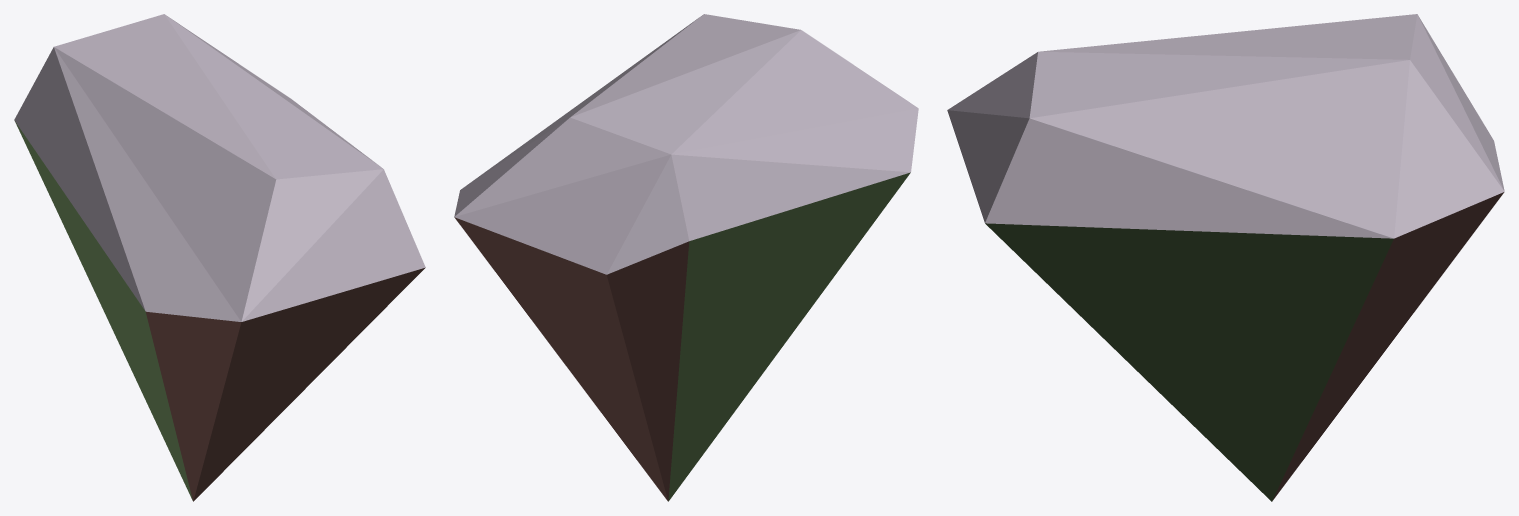
Rendered from CommonTree_Snow_1.lod4.glb.
3 views of the same model, side by side, from view 1: azimuth 30°, elevation 25°; view 2: azimuth 150°, elevation 25°; view 3: azimuth 270°, elevation 25° (orthographic). The views are drawn at different scales.
Visible parts, largest first — view 1: CommonTree_Snow_1; view 2: CommonTree_Snow_1; view 3: CommonTree_Snow_1.
Part boxes in pixels (<box>): CommonTree_Snow_1: <box>14,14,425,501</box>; CommonTree_Snow_1: <box>454,14,918,501</box>; CommonTree_Snow_1: <box>947,14,1504,501</box>.
Size of the model in its own units: 1.89 by 2.57 by 2.82.
